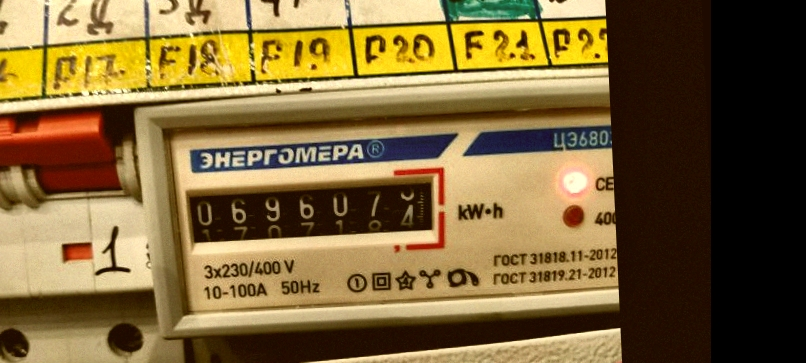0: (330, 187, 349, 218), (195, 198, 213, 226)
4: (397, 199, 416, 229)
6: (297, 190, 315, 220), (229, 195, 247, 224)
7: (364, 187, 384, 218)
9: (262, 193, 281, 222)
screen: (172, 163, 453, 259)
